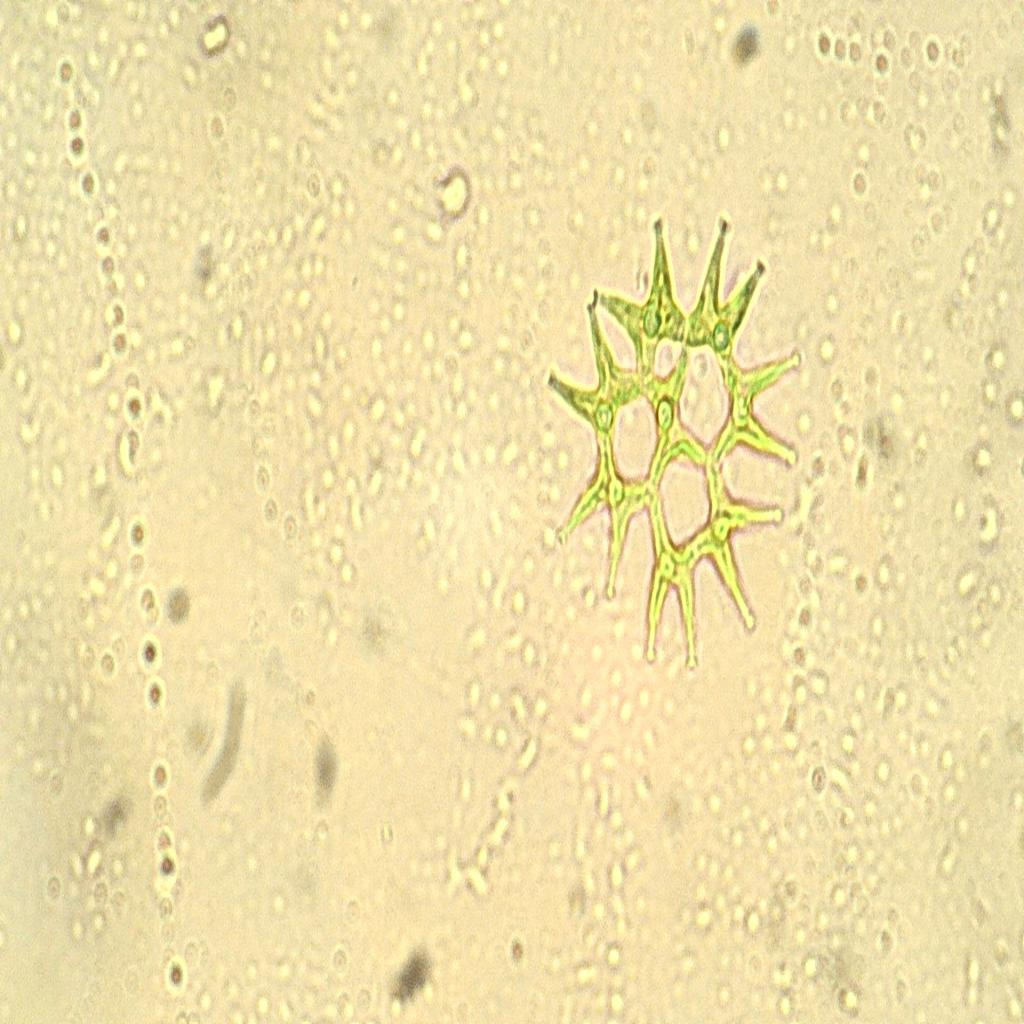Pediastrum_75T: (539, 196, 816, 680)
